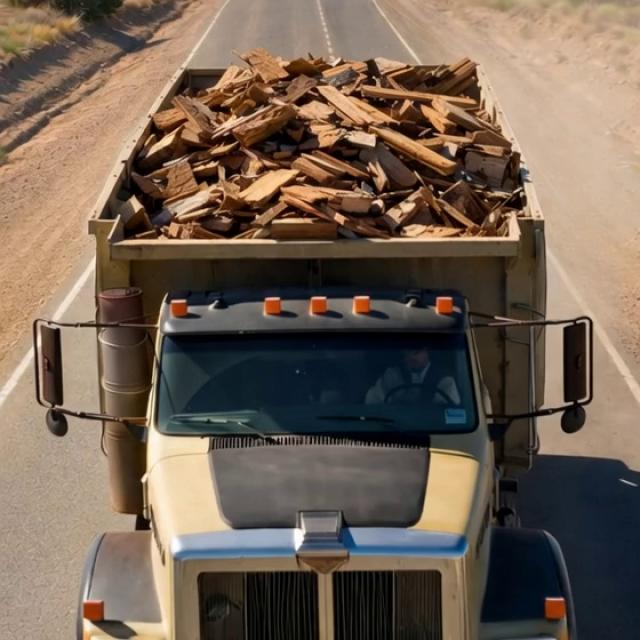Box: (85, 56, 567, 252)
Truck: (25, 30, 602, 640)
